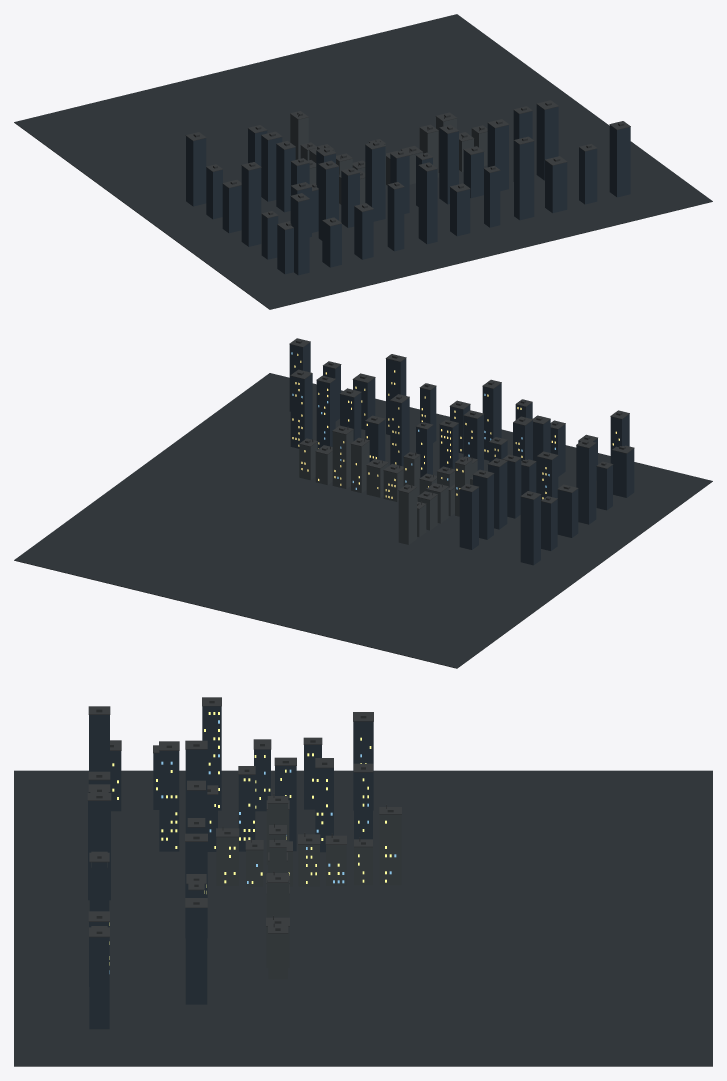
Rendered from rooftop-city.glb.
3 renders of one model, top to bottom at view 1: azimuth 30°, elevation 25°; view 2: azimuth 150°, elevation 25°; view 3: azimuth 270°, elevation 25°, orthographic. The views are drawn at different scales.
Parts seen in each view (by area): view 1: street, far-facade, roof-metal, near-facade; view 2: street, far-facade, near-facade, roof-metal, warm-window; view 3: street, far-facade, near-facade, roof-metal, warm-window.
Part boxes in pixels (box(x1,y1,x2,y2)): street: box(14, 14, 712, 309); far-facade: box(186, 104, 630, 275); roof-metal: box(185, 100, 630, 230); near-facade: box(290, 114, 487, 204); street: box(14, 373, 712, 668); far-facade: box(289, 342, 634, 565); near-facade: box(299, 430, 477, 544); roof-metal: box(289, 338, 634, 509); warm-window: box(292, 353, 619, 499); street: box(14, 770, 712, 1066); far-facade: box(88, 706, 373, 1029); near-facade: box(216, 803, 401, 979); roof-metal: box(87, 697, 401, 937); warm-window: box(109, 712, 391, 965).
Bounding box in the file's own units: 180 × 31.52 × 180.
